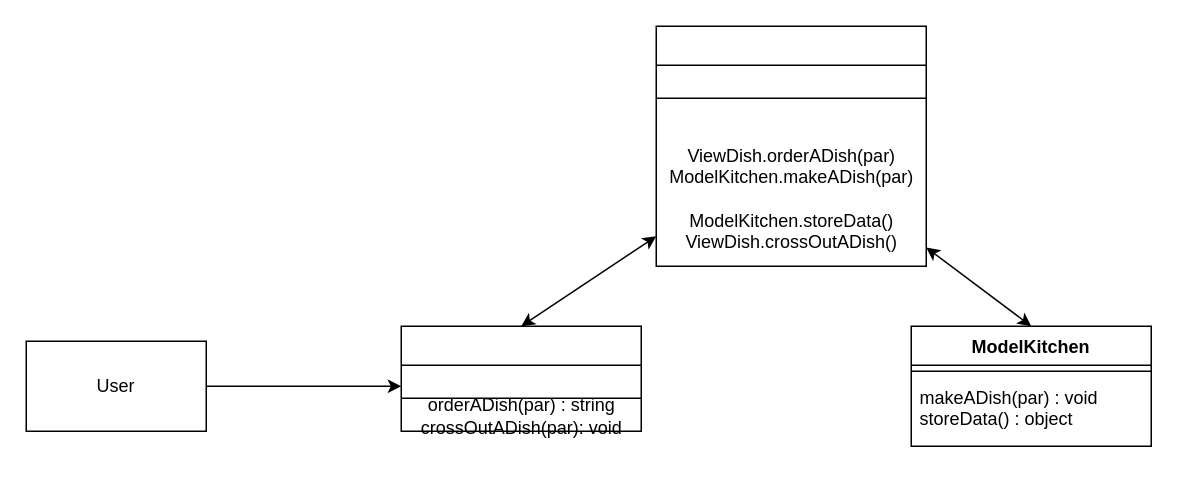
Some shapes in this 1178 by 477 pixel diagram are drawn without their labels. The shapes that lost their labels are listed below. From the top down, each one's box as (x1, y1, x2, y2) in pixels, then its label:
(655, 25, 926, 266): PresenterWaiter
(400, 325, 641, 431): ViewDish
